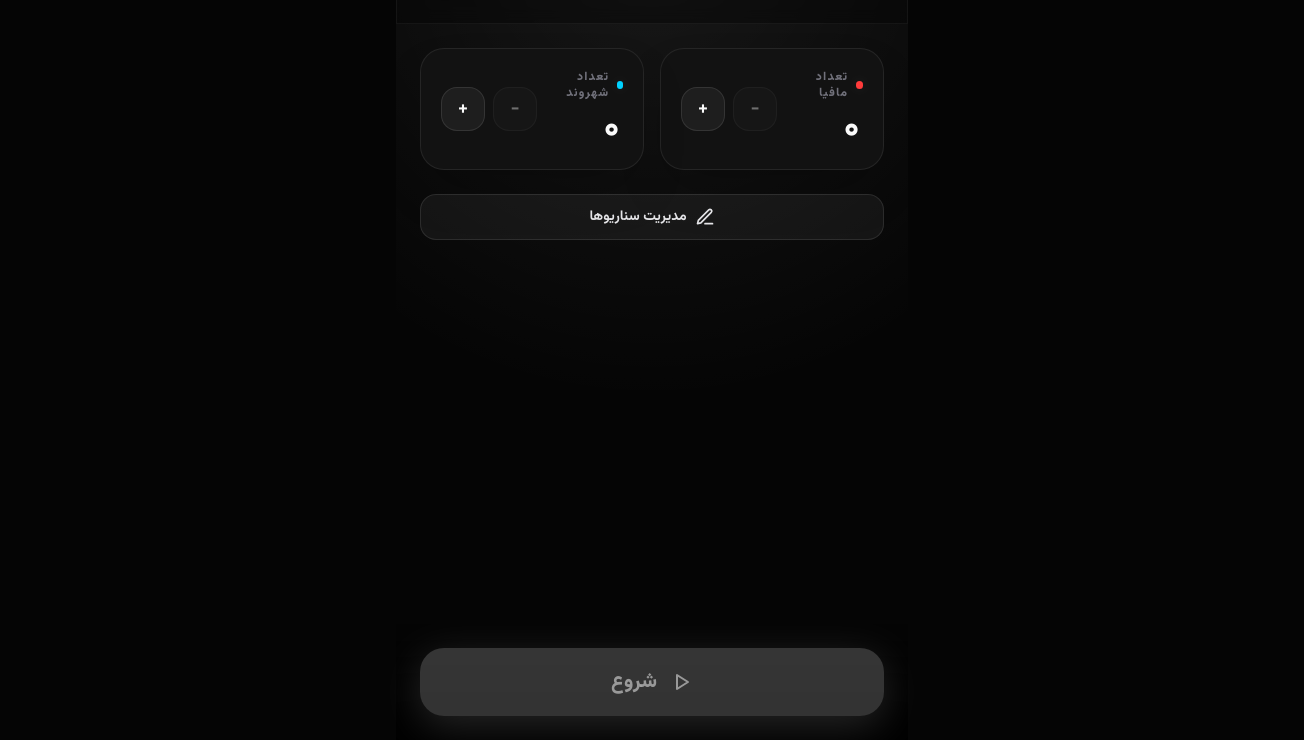
Scenario Management › persists scenarios to localStorage
Click the button named "افزایش": (703, 109) [681,87,725,131]
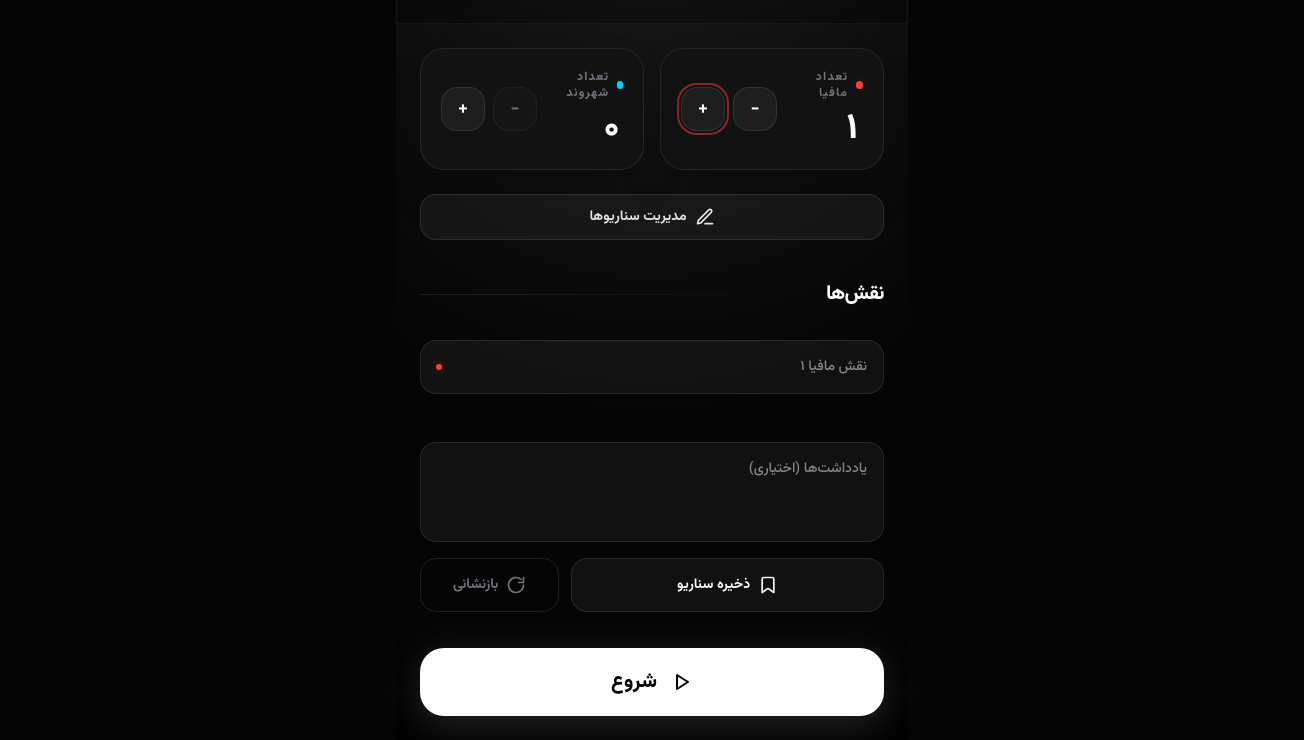
Click the button named "افزایش": (463, 109) [441,87,485,131]
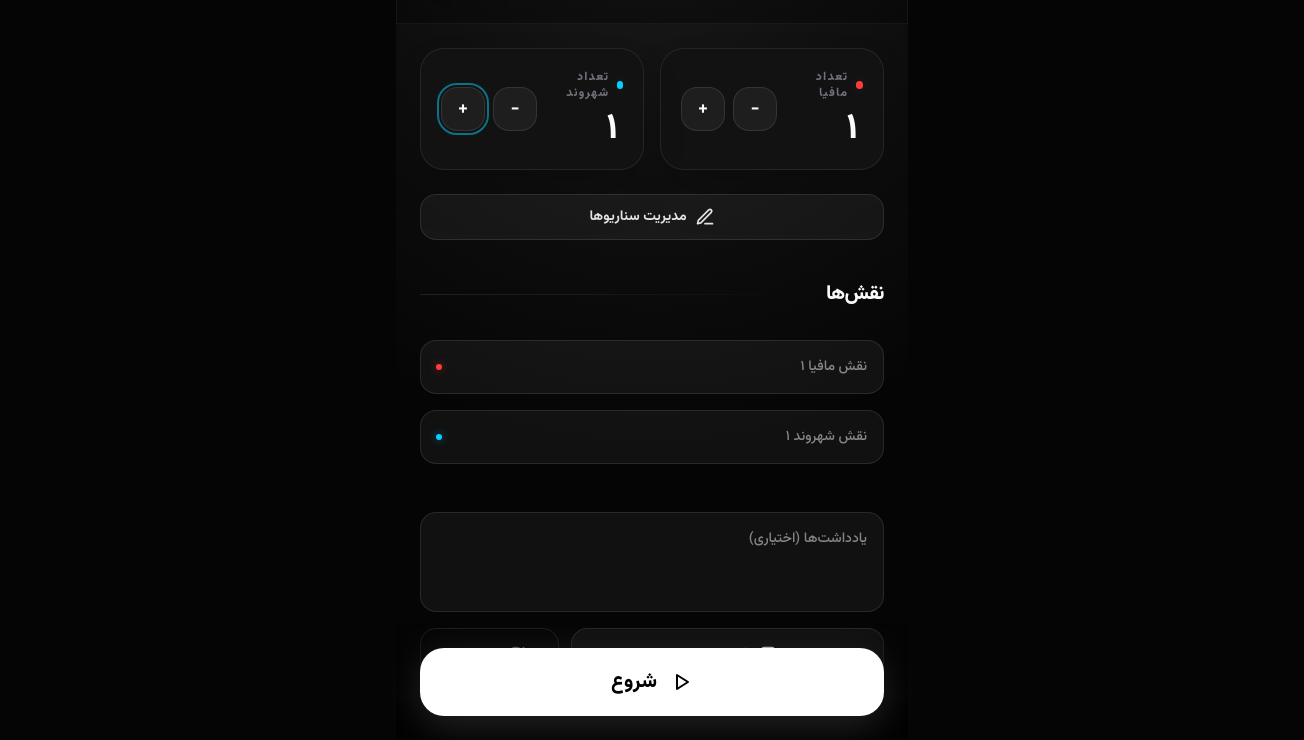
Click the button named "افزایش": (463, 109) [441,87,485,131]
(page scrolled)
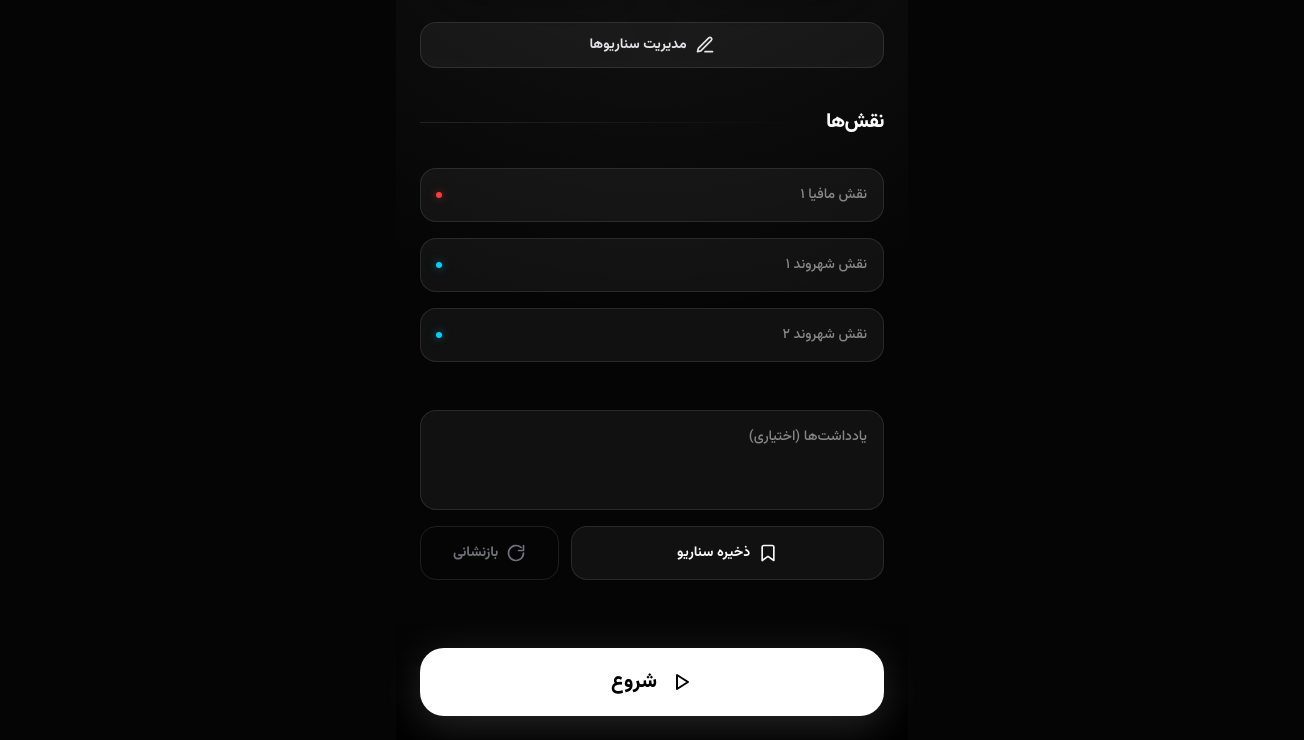
Click the button "ذخیره سناریو": (728, 553) [571,526,884,580]
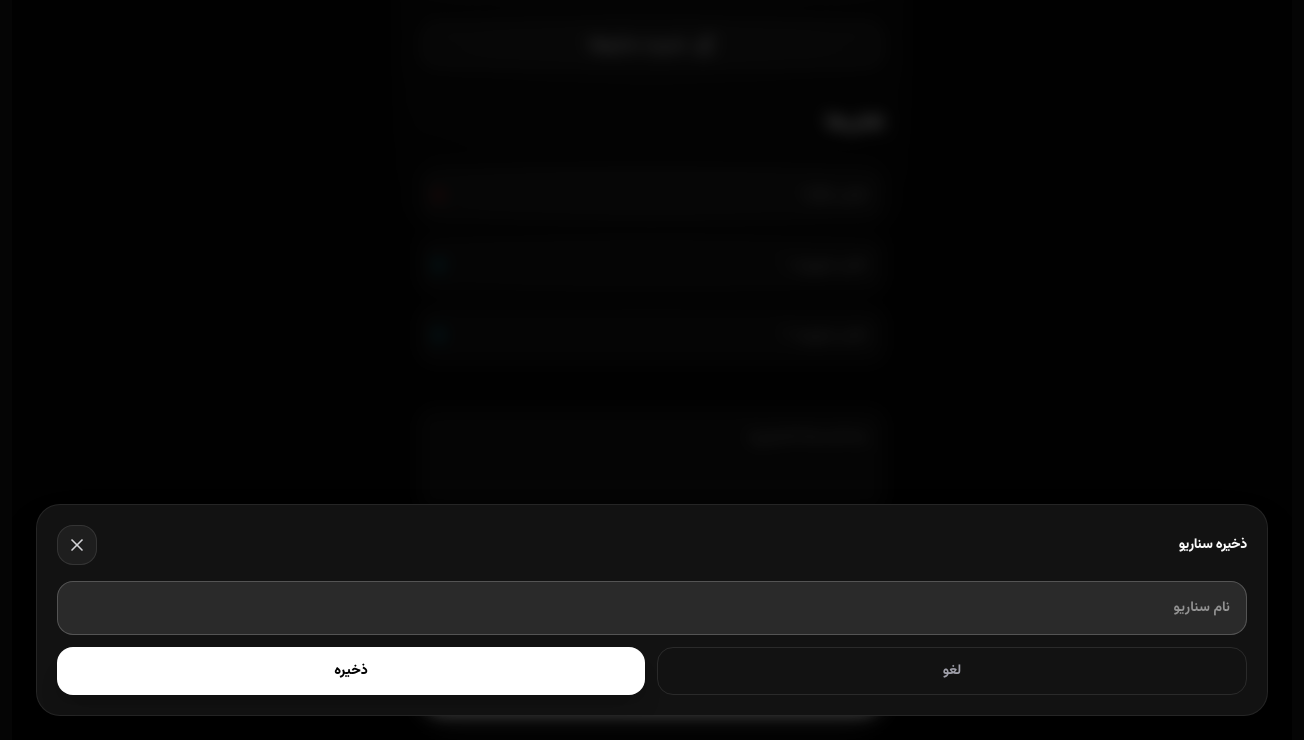
In the field with placeholder "نام سناریو": (652, 608) [57,581,1247,635], type "ذخیره‌ای"
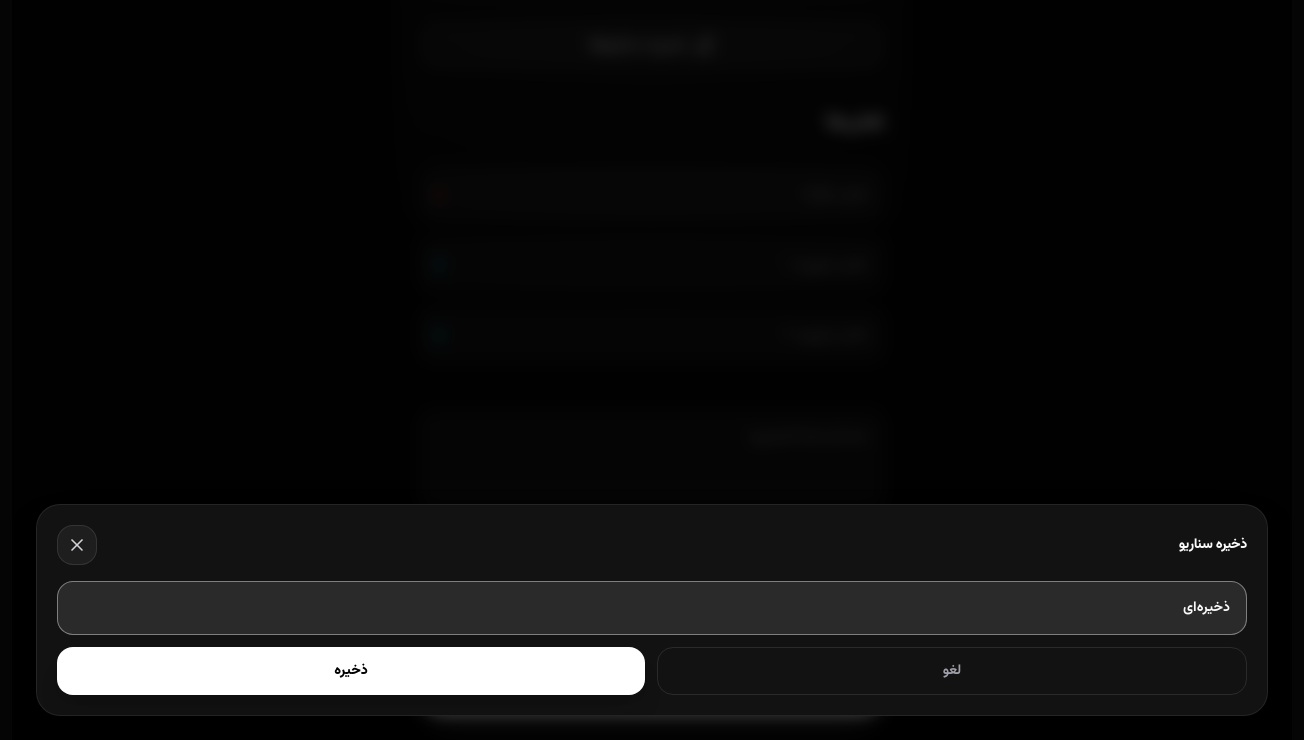
Click the button "ذخیره": (351, 671) [57,647,645,695]
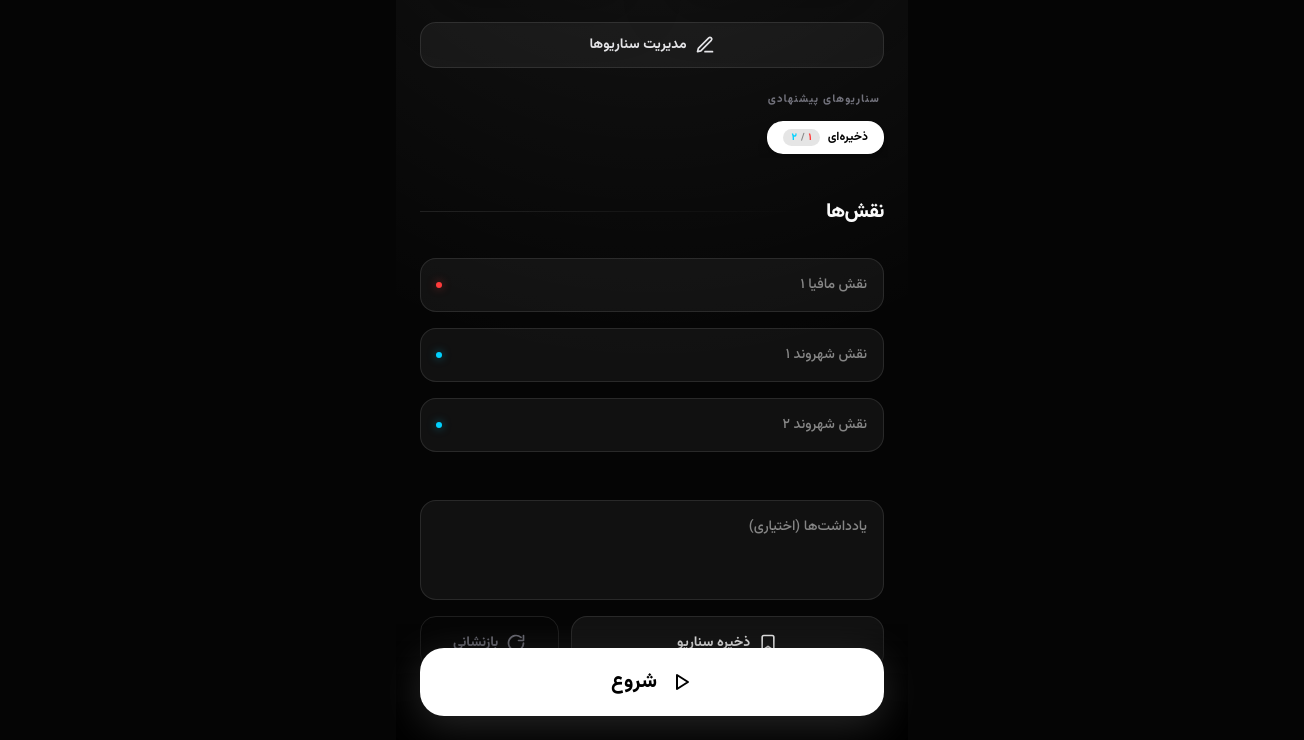
Check: the text "ذخیره‌ای" is shown, box [828,129,868,145]
